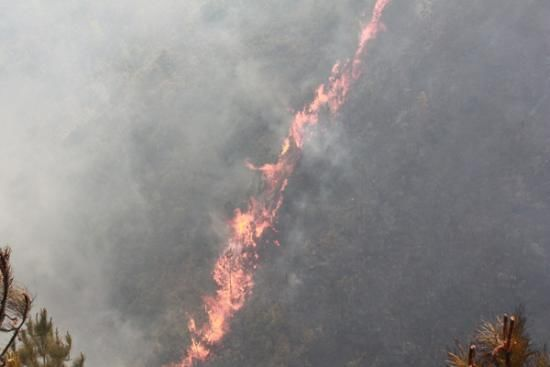fire: (176, 1, 387, 363)
smoke: (2, 0, 350, 366)
